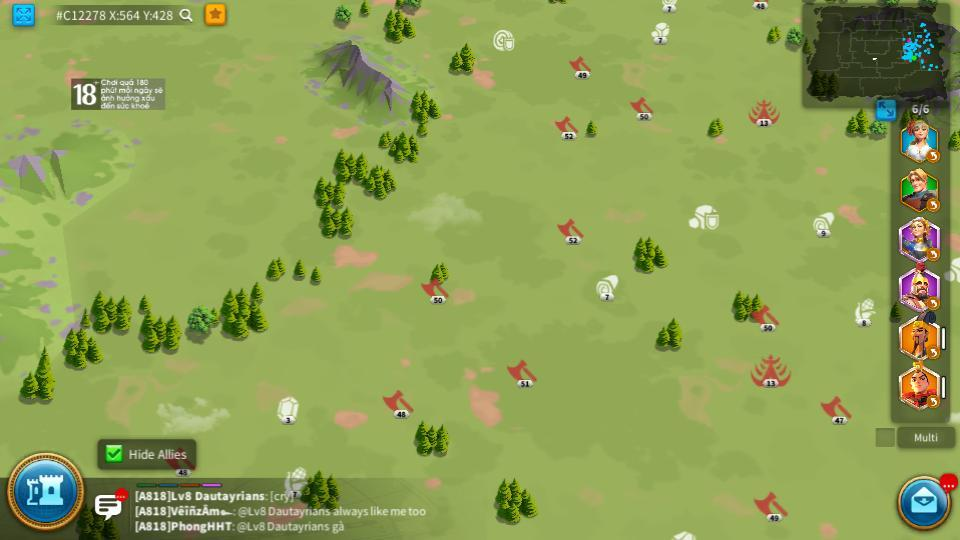gem-z-out: (275, 396, 300, 423), (288, 467, 309, 479), (671, 531, 696, 539)
march_returning: (926, 248, 941, 261), (926, 395, 941, 407), (927, 199, 941, 211), (925, 348, 938, 359), (925, 298, 938, 309), (927, 151, 940, 162)
